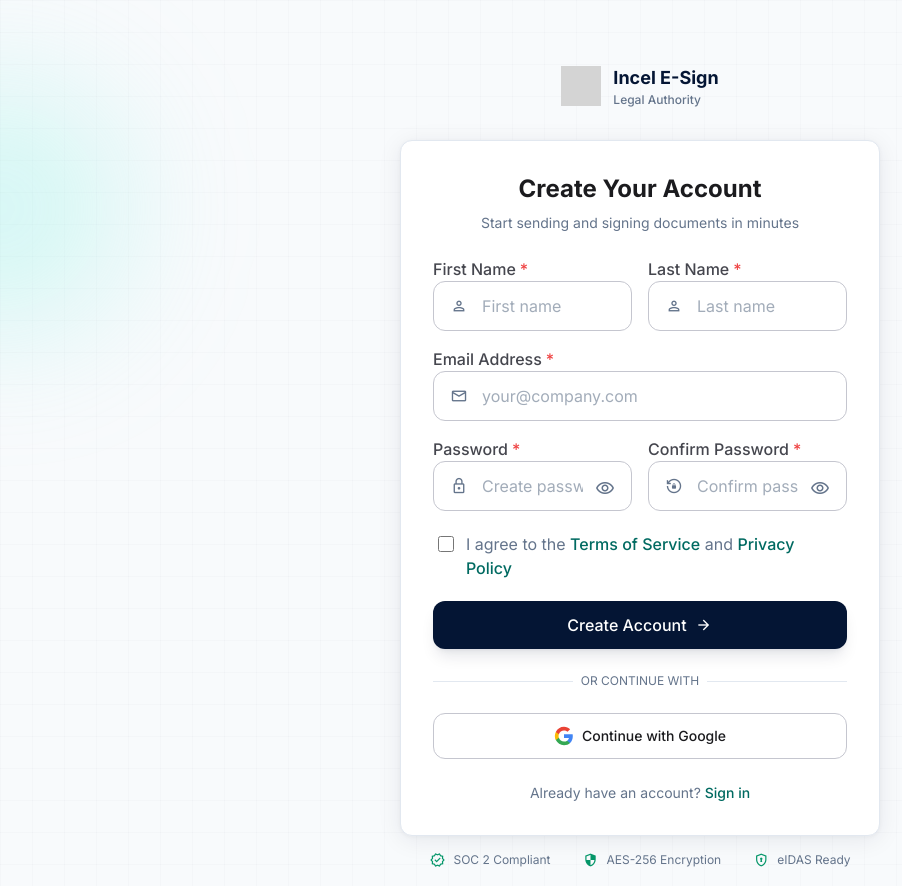
Test: Authentication Integration Tests › Register Page › validates password strength
The width and height of the screenshot is (902, 886).
Step 1. Click the checkbox → x=446, y=544, box x1=438 y1=536 x2=454 y2=552
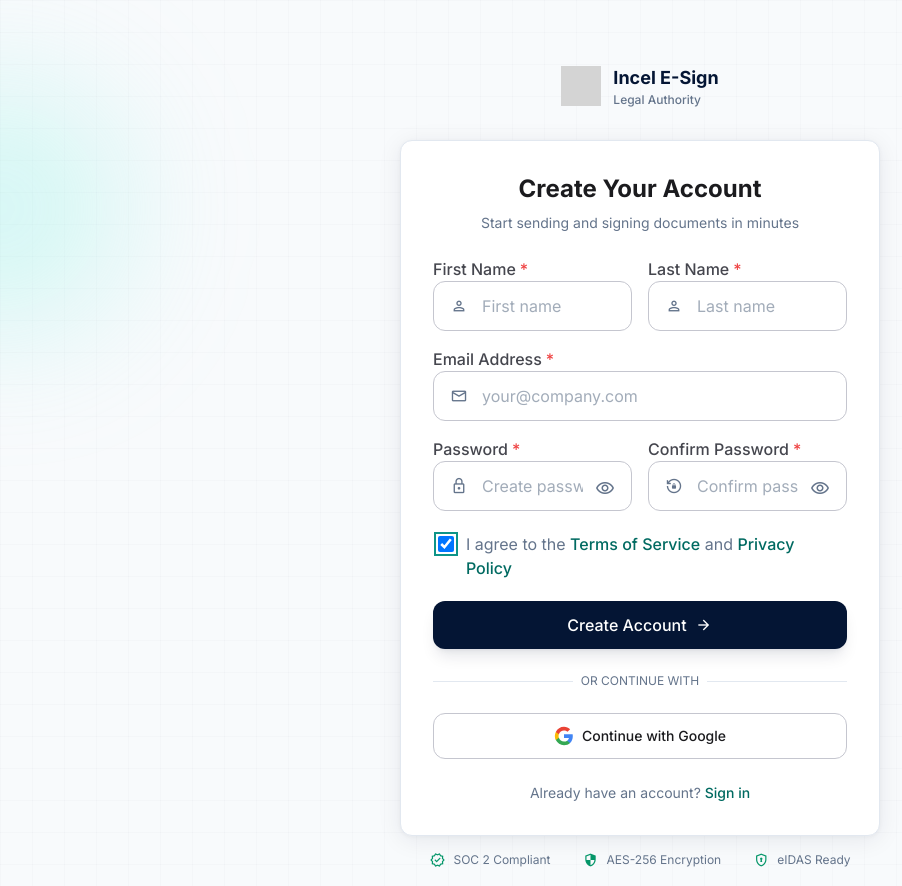
Step 2. Type "John" into the field with placeholder "First Name" → x=532, y=306, box x1=434 y1=282 x2=631 y2=330
Step 3. Type "Doe" into the field with placeholder "Last Name" → x=748, y=306, box x1=649 y1=282 x2=846 y2=330
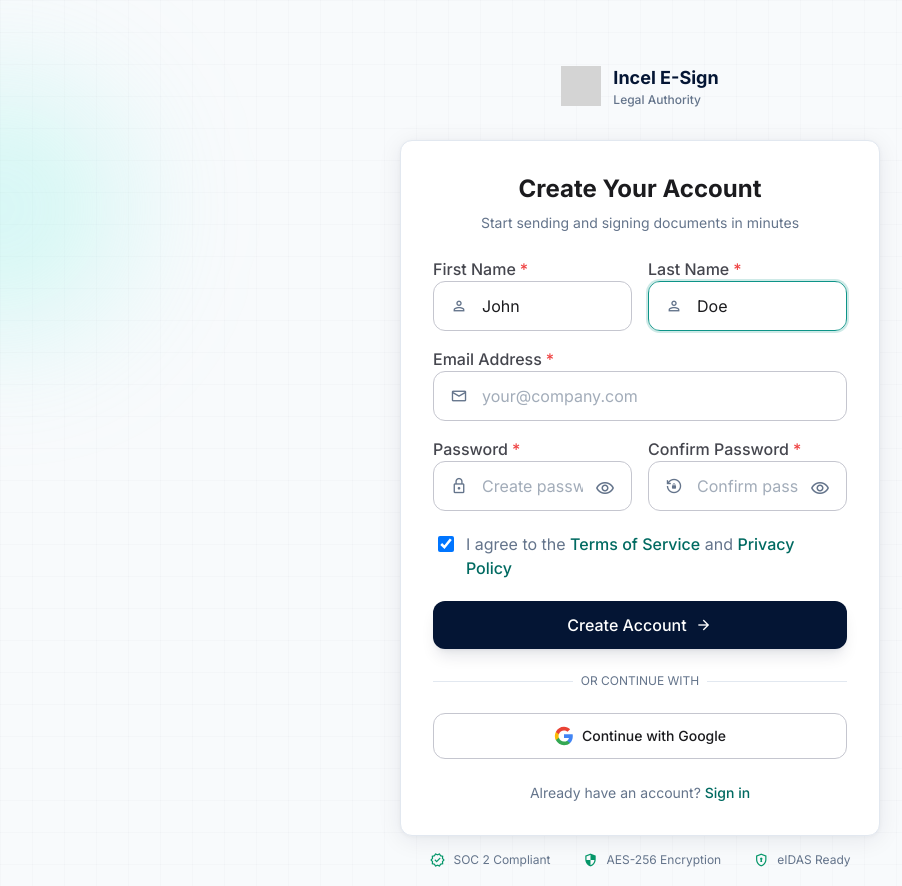
Step 4. Type "test@example.com" into the field with placeholder "your@company.com" → x=640, y=396, box x1=434 y1=372 x2=846 y2=420
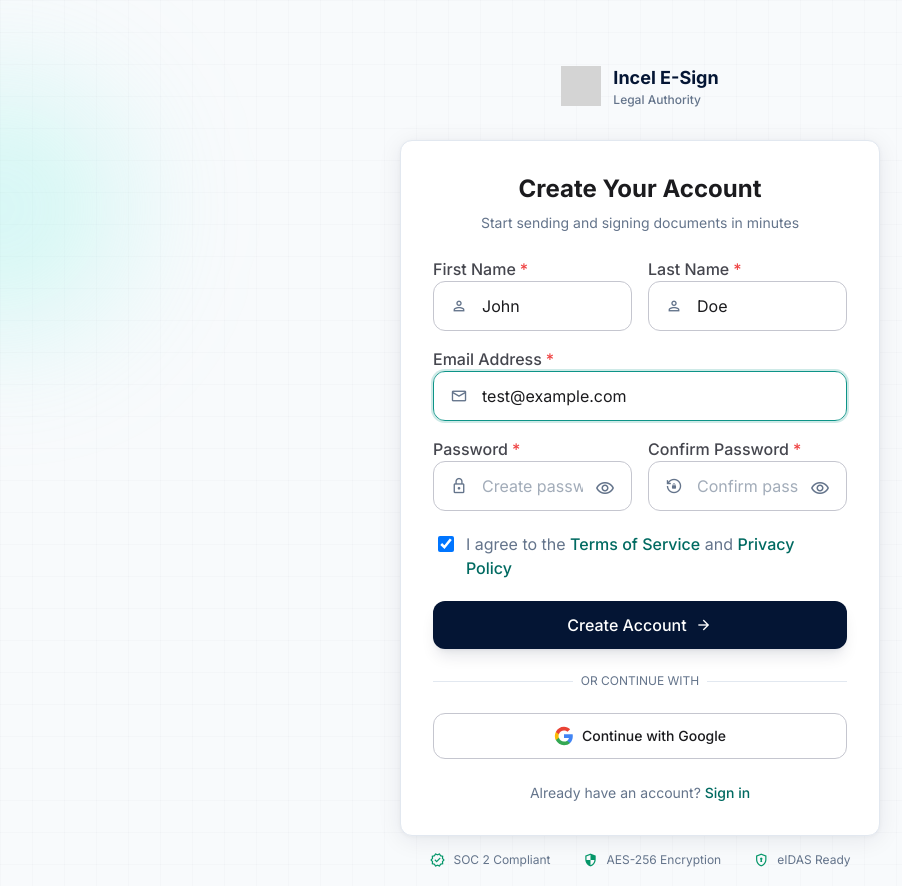
Step 5. Type "weak" into the password field with placeholder "Create password" → x=532, y=486, box x1=434 y1=462 x2=631 y2=510
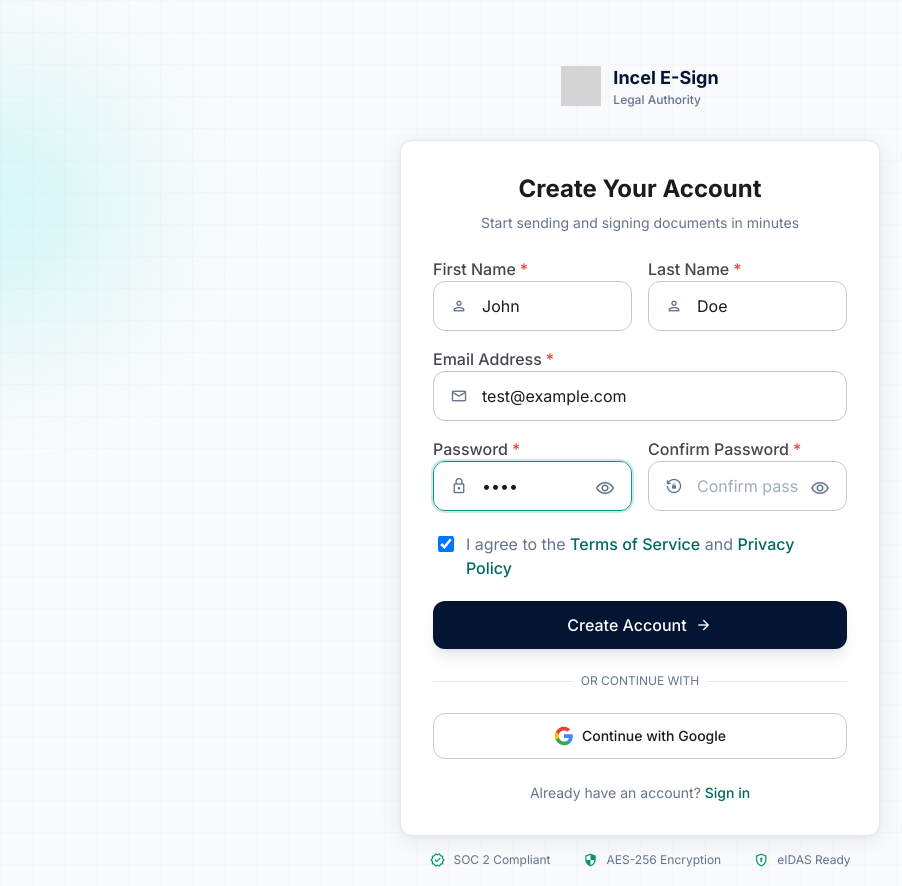
Step 6. Type "weak" into the password field with placeholder "Confirm Password" → x=748, y=486, box x1=649 y1=462 x2=846 y2=510
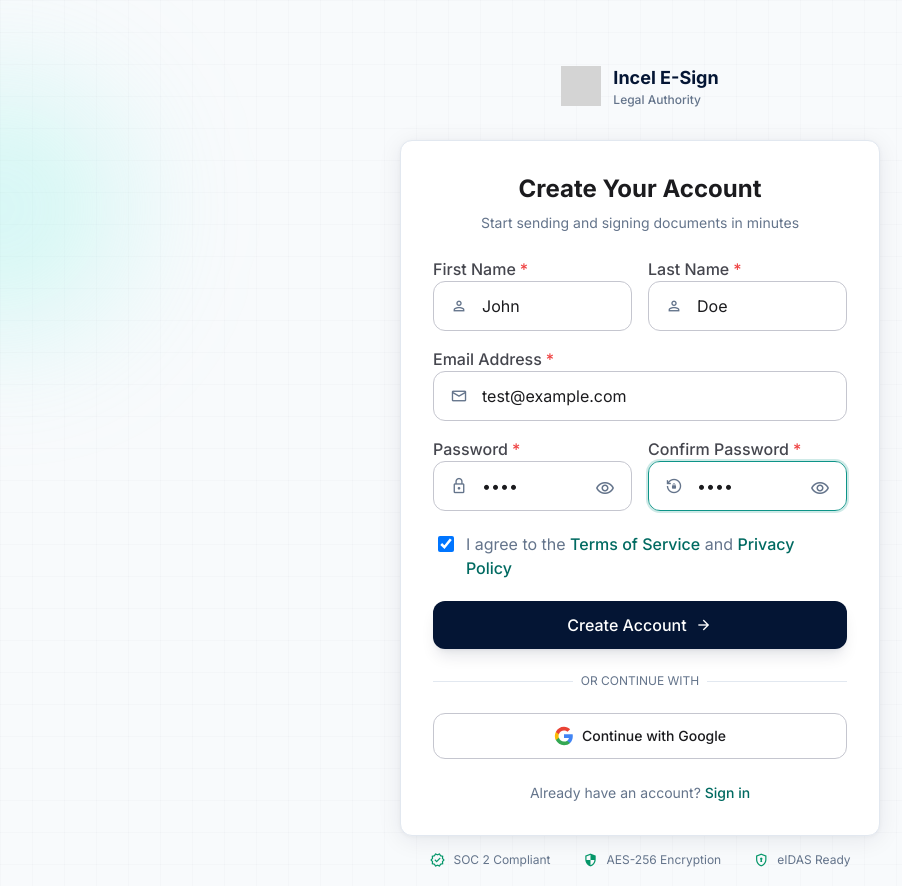
Step 7. Click the button "Create Account" → x=640, y=625, box x1=433 y1=601 x2=847 y2=649
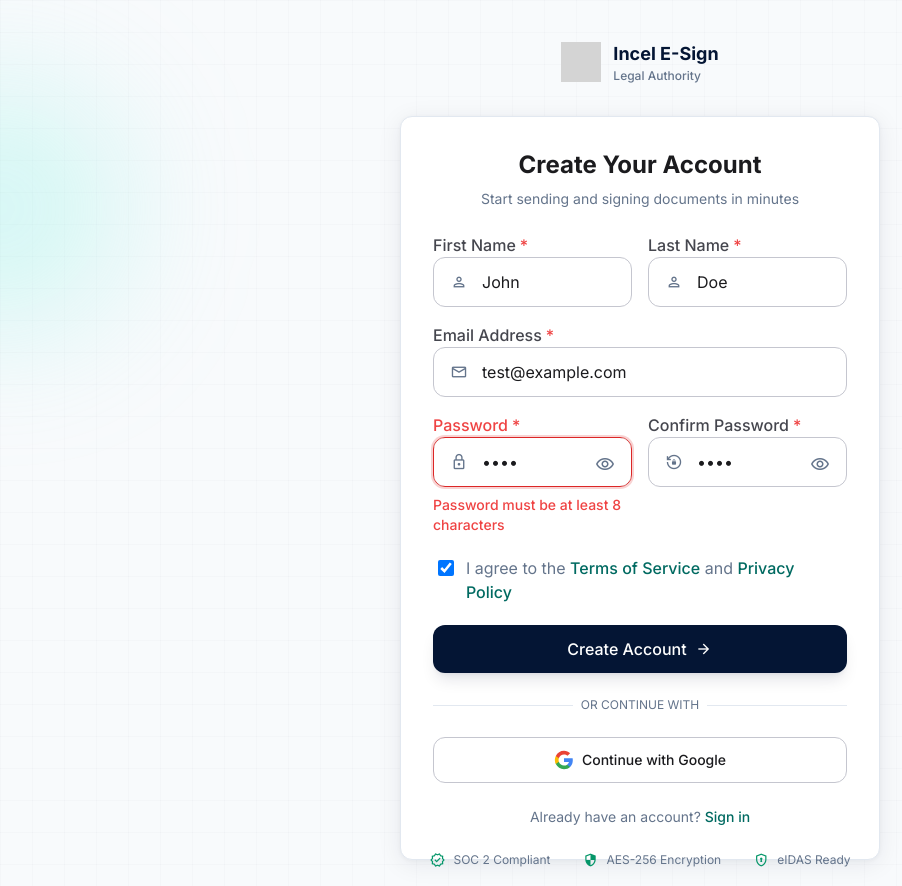
Expected: the text "Password must be at least 8 characters" is shown, x1=433 y1=495 x2=632 y2=535
